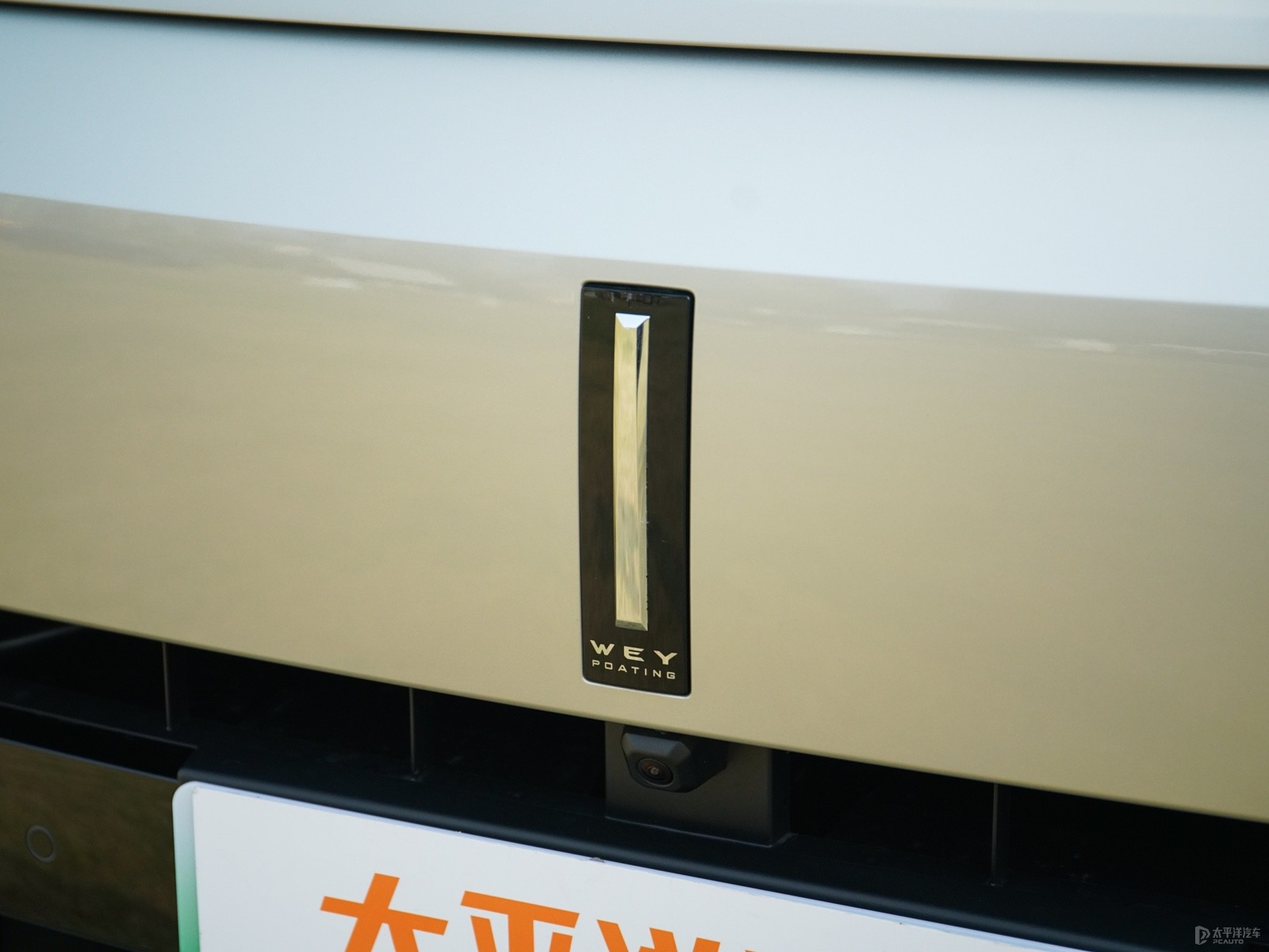WEY: (577, 281, 693, 697)
